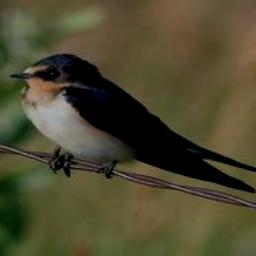Swallow: (7, 50, 256, 200)
